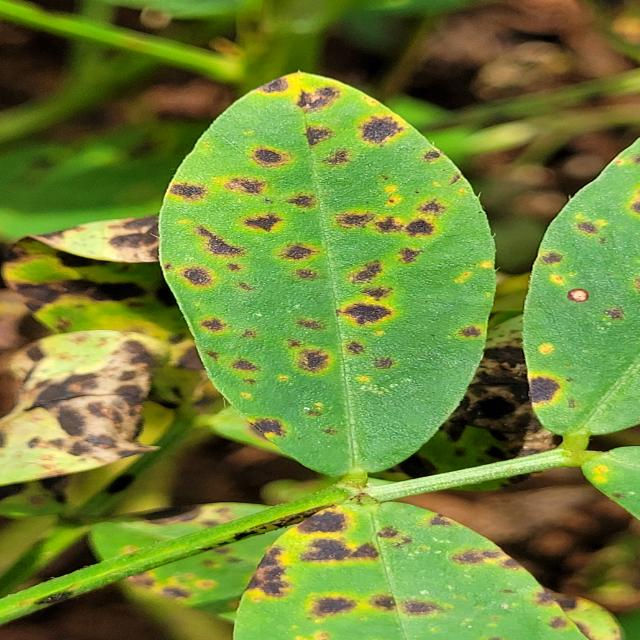Ground nut_tikka leaf spot: (150, 69, 493, 473), (249, 502, 589, 640), (9, 220, 240, 370), (531, 137, 640, 434)
